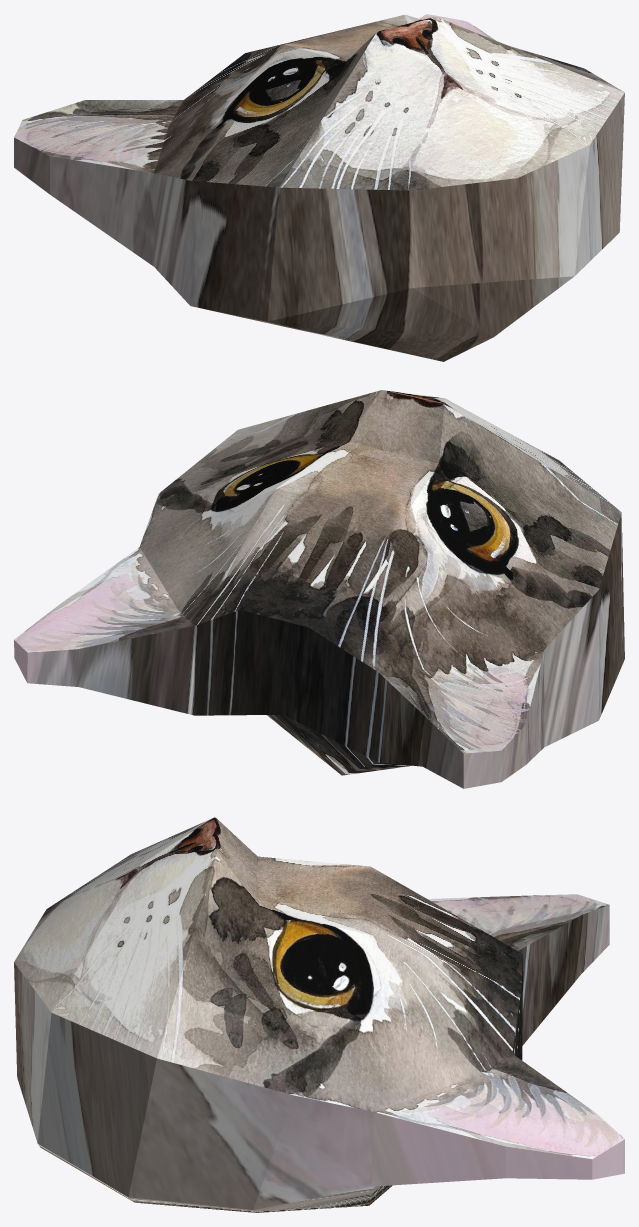
Rendered from cat-head.fbx.
3 views of the same model, one above another, from view 1: azimuth 30°, elevation 25°; view 2: azimuth 150°, elevation 25°; view 3: azimuth 270°, elevation 25° (orthographic). The views are drawn at different scales.
Visible parts, largest first — view 1: cat_head; view 2: cat_head; view 3: cat_head.
Boxes of the visible parts, x1=… form: cat_head: x1=14, y1=14, x2=624, y2=361; cat_head: x1=14, y1=390, x2=624, y2=788; cat_head: x1=14, y1=817, x2=624, y2=1212.
Size of the model in its own units: 84.32 by 57.2 by 82.59.
Materials: 1 (1 with a texture image).
